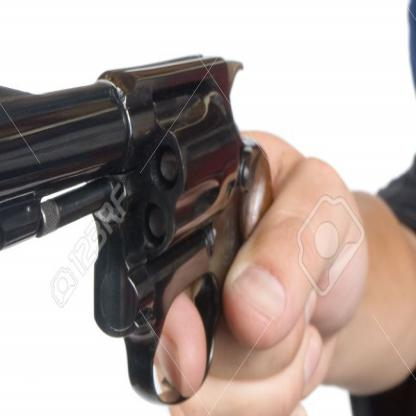gun: (0, 32, 313, 415)
